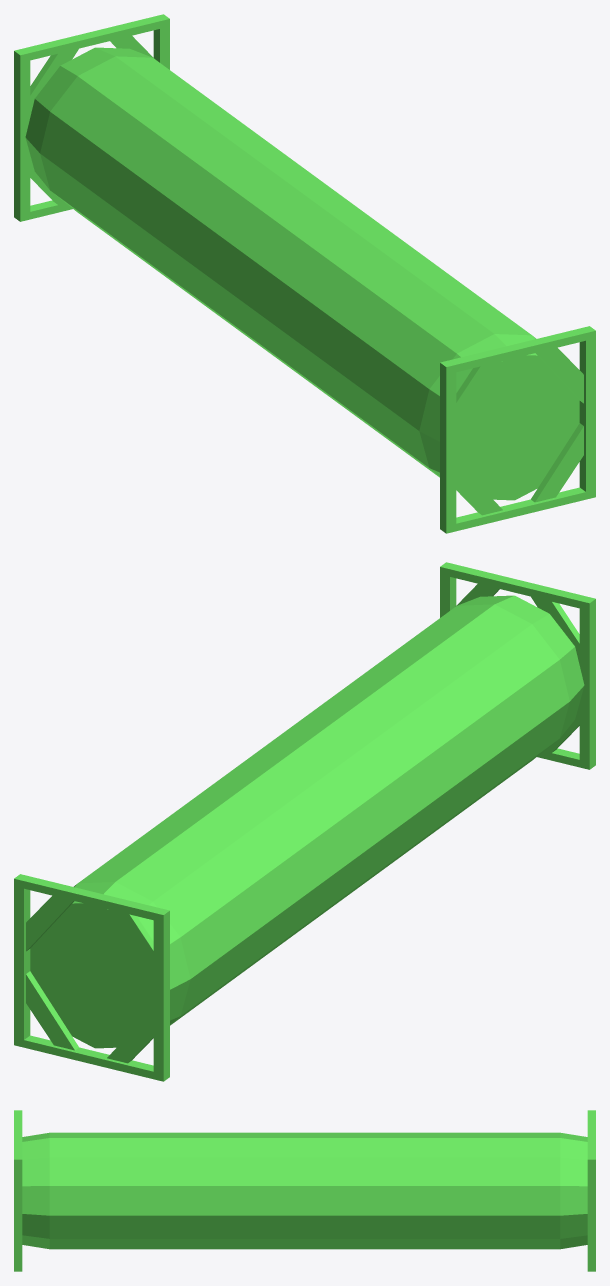
Rendered from 42T8_GTLP43_colliders.FBX.
3 views of the same model, one above another, from view 1: azimuth 30°, elevation 25°; view 2: azimuth 150°, elevation 25°; view 3: azimuth 270°, elevation 25° (orthographic). The views are drawn at different scales.
Parts seen in each view (by area): view 1: Container_42T8_GTLP43_collider; view 2: Container_42T8_GTLP43_collider; view 3: Container_42T8_GTLP43_collider.
Part boxes in pixels (bbox=[...]): Container_42T8_GTLP43_collider: bbox=[14, 14, 595, 533]; Container_42T8_GTLP43_collider: bbox=[14, 562, 595, 1081]; Container_42T8_GTLP43_collider: bbox=[14, 1110, 595, 1271].
Size of the model in its own units: 245 by 259 by 1219.
